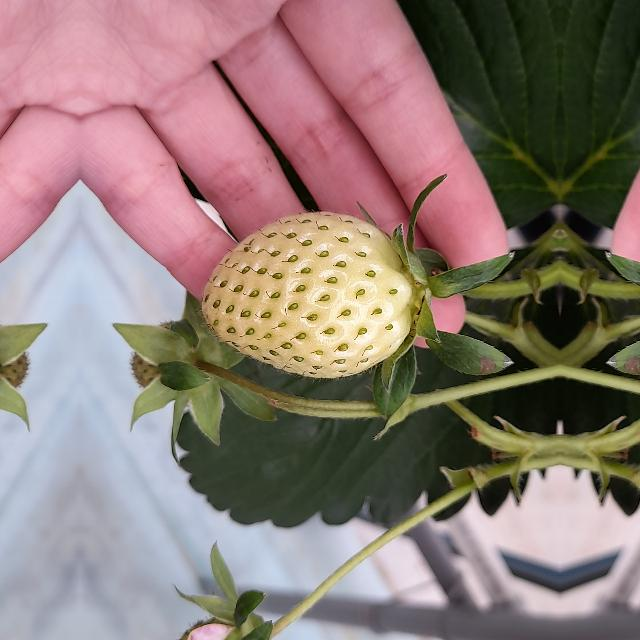Health_50: (202, 211, 416, 377)
